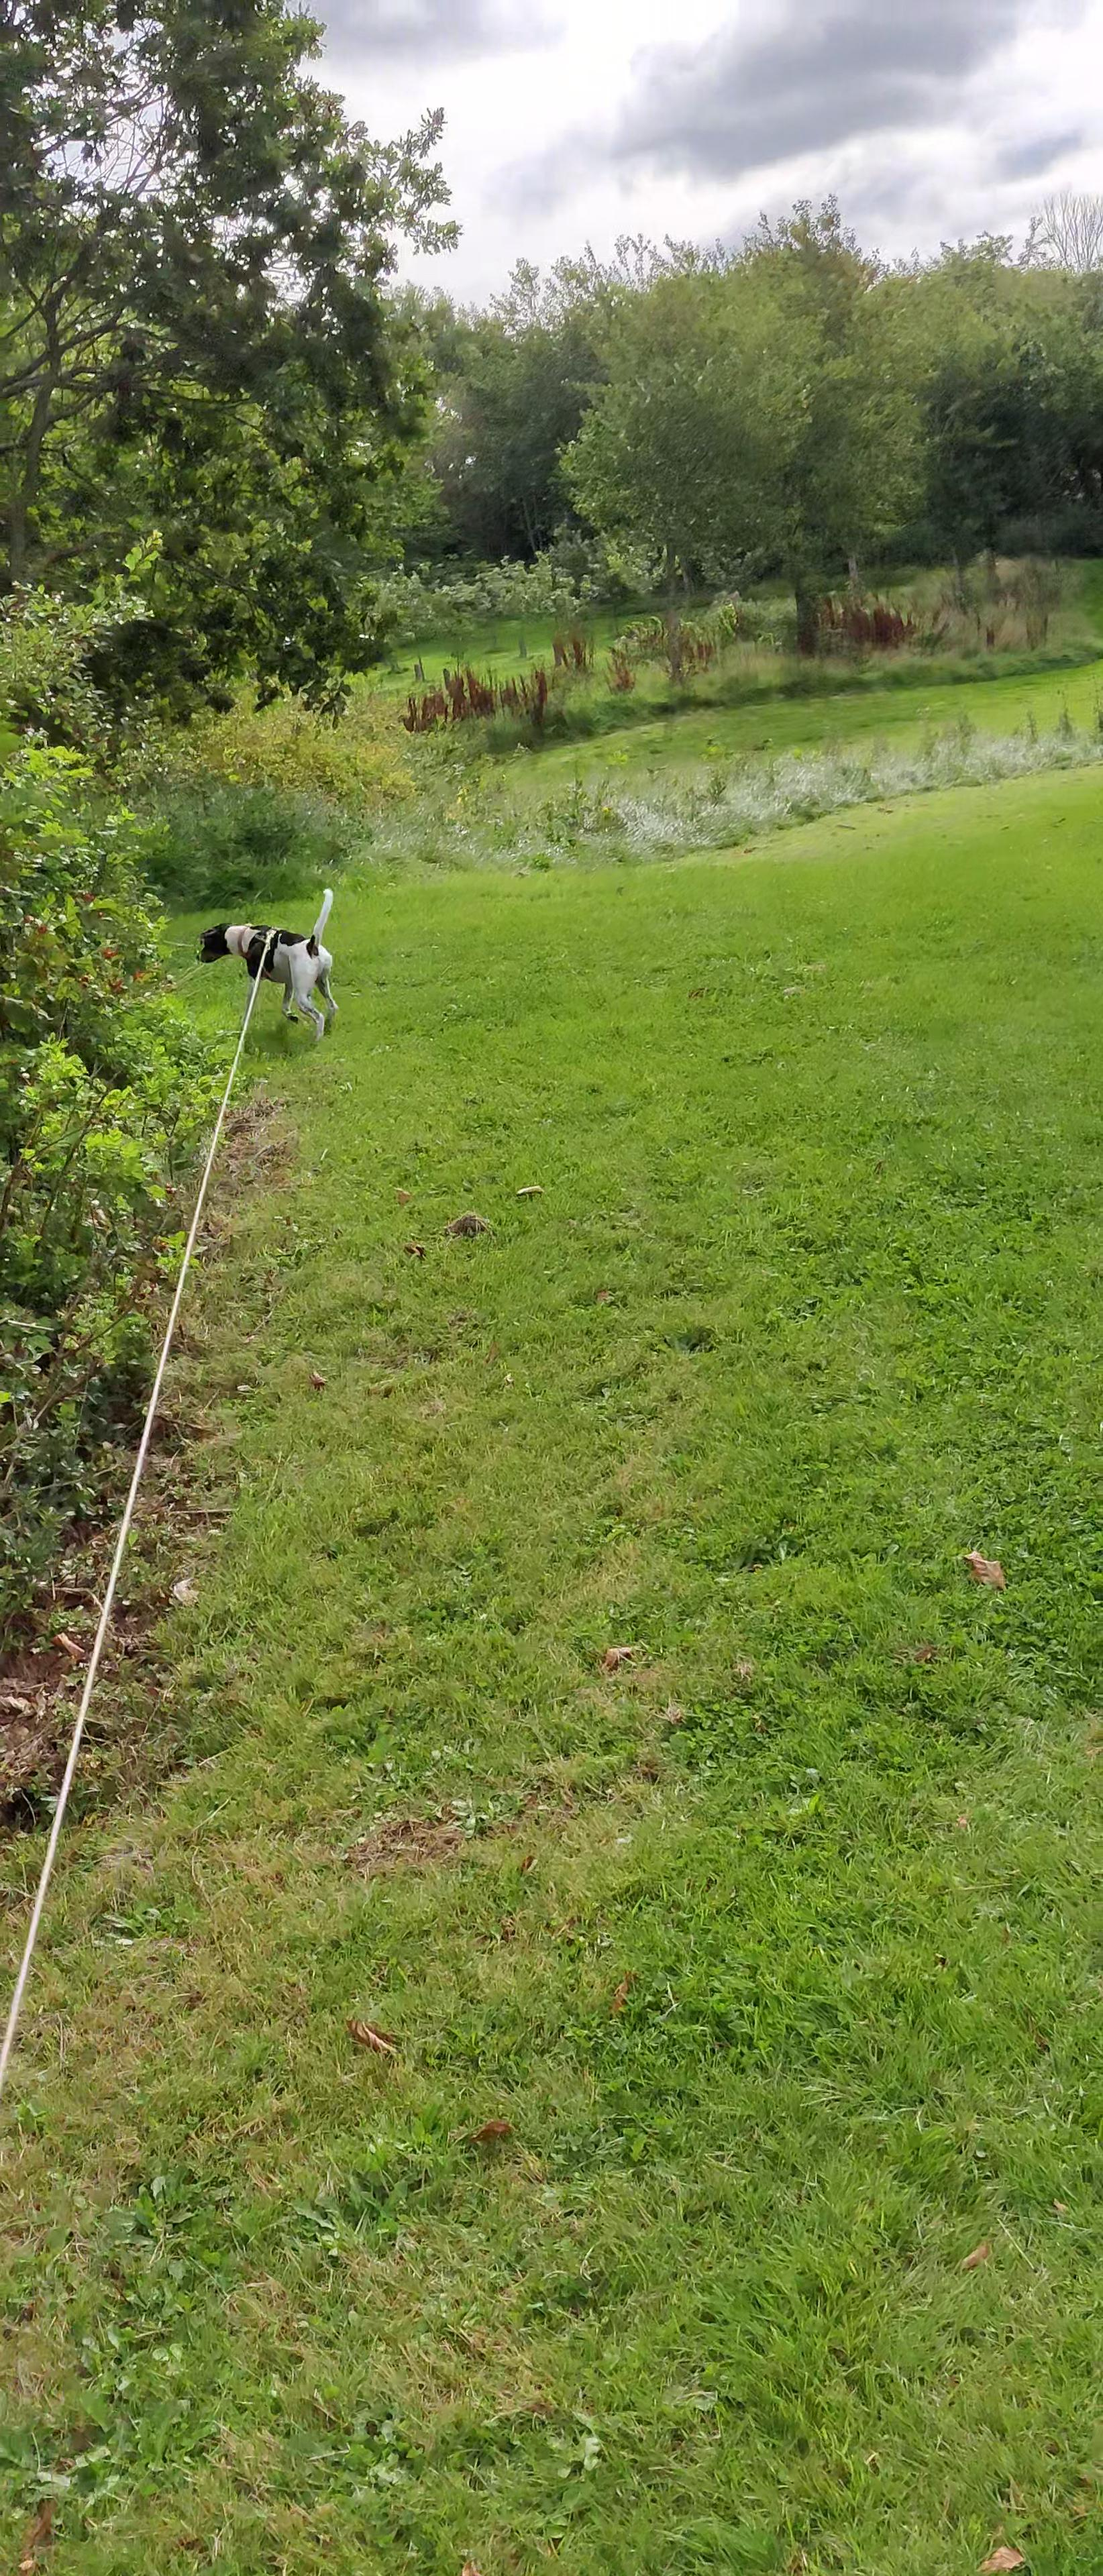Dog: (178, 871, 347, 1050)
